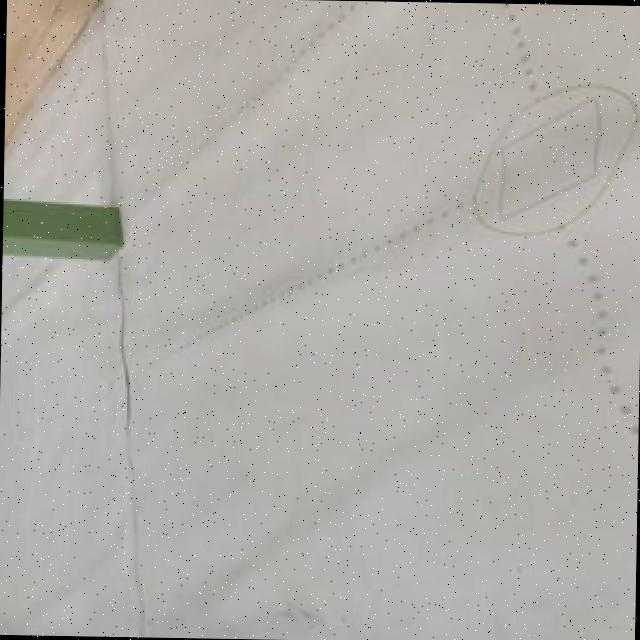greenbox: (1, 196, 118, 257)
